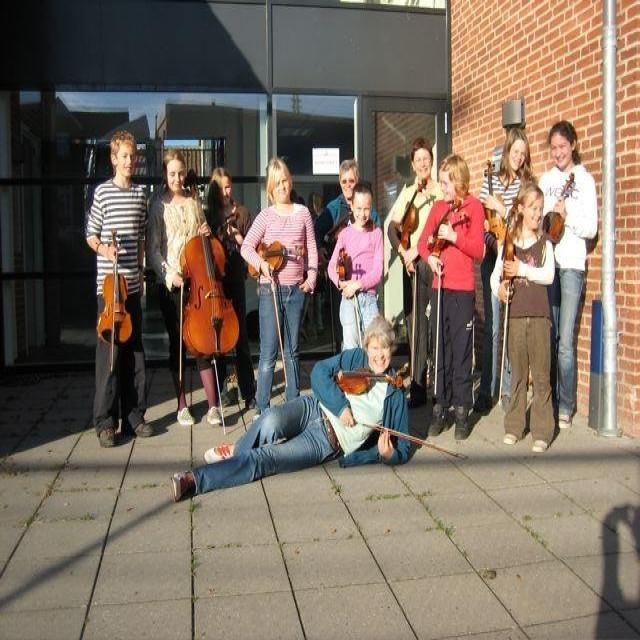cello: (176, 166, 242, 359)
violin: (95, 230, 134, 345), (334, 366, 406, 397), (397, 174, 427, 247), (481, 159, 507, 241), (248, 238, 300, 278), (546, 172, 575, 239), (426, 212, 468, 258), (503, 199, 518, 282), (338, 250, 346, 291)
